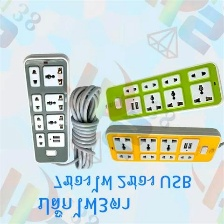three_eye_plug: (101, 60, 224, 123), (20, 52, 72, 167), (102, 122, 224, 164)
